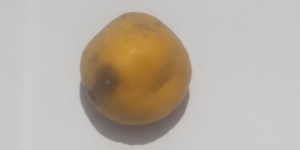BAD: (81, 13, 192, 130)
